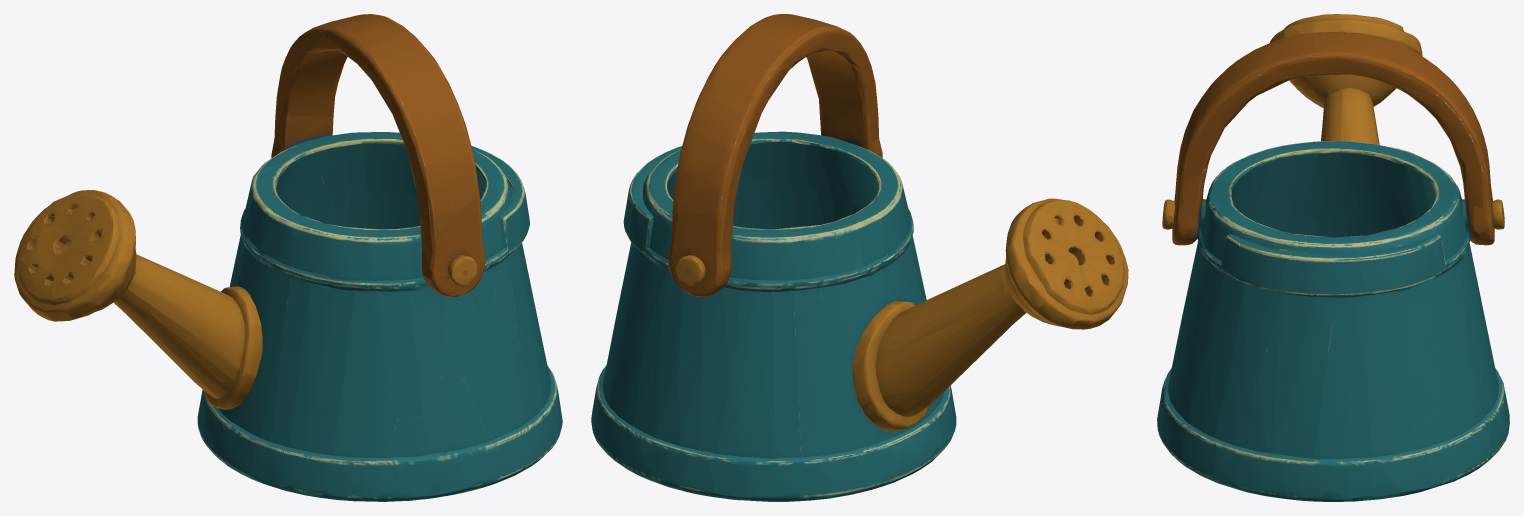
3 views of the same model, side by side, from view 1: azimuth 30°, elevation 25°; view 2: azimuth 150°, elevation 25°; view 3: azimuth 270°, elevation 25° (orthographic). The views are drawn at different scales.
Visible parts, largest first — view 1: island-watering-can-v1-1.005; view 2: island-watering-can-v1-1.005; view 3: island-watering-can-v1-1.005.
Part boxes in pixels (x1=…): island-watering-can-v1-1.005: x1=14, y1=14, x2=562, y2=501; island-watering-can-v1-1.005: x1=591, y1=14, x2=1128, y2=501; island-watering-can-v1-1.005: x1=1157, y1=14, x2=1509, y2=501.
Size of the model in its own units: 0.7899 by 0.6 by 0.4949.
1 material, 1 textured.
